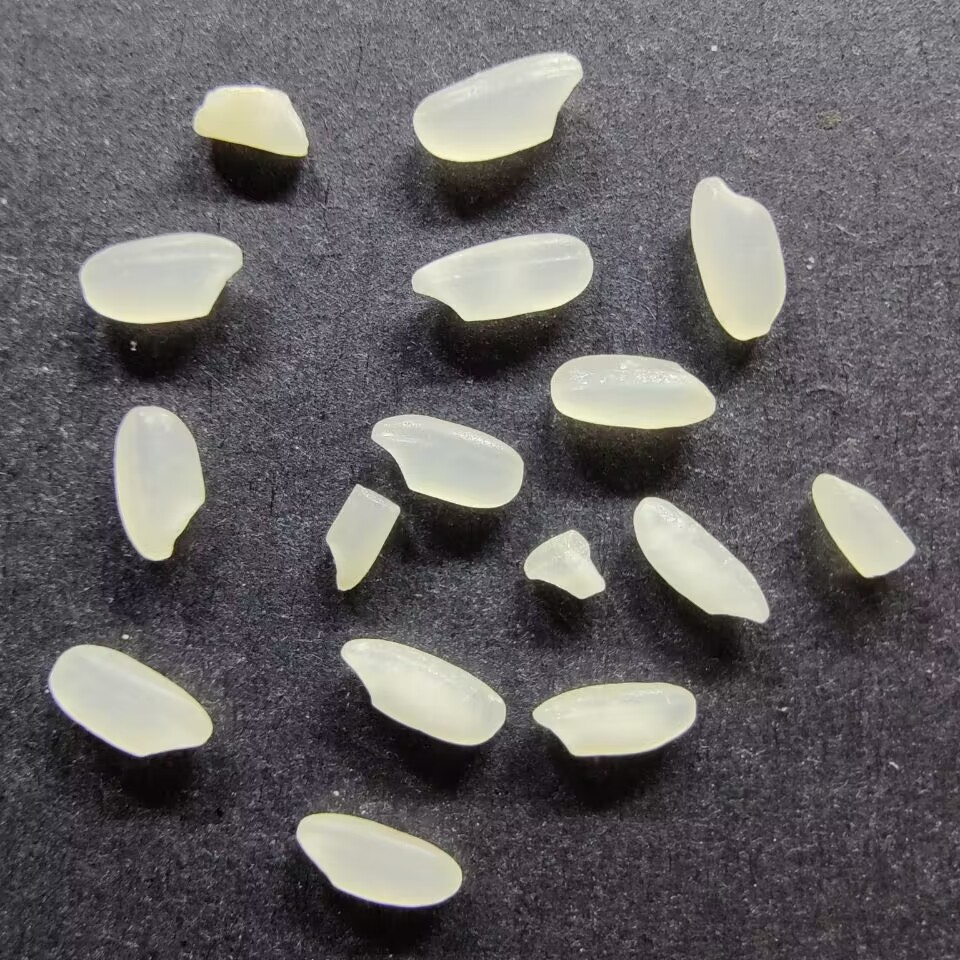broken: (812, 470, 919, 581), (190, 83, 312, 159), (322, 482, 403, 592), (521, 528, 607, 601)
rice: (46, 642, 215, 760), (410, 50, 585, 163), (631, 493, 772, 625), (338, 637, 507, 747), (408, 231, 595, 323), (294, 811, 465, 909), (689, 175, 788, 343), (79, 230, 244, 326), (110, 404, 208, 564), (368, 412, 527, 509), (547, 352, 717, 431), (529, 680, 699, 758)
